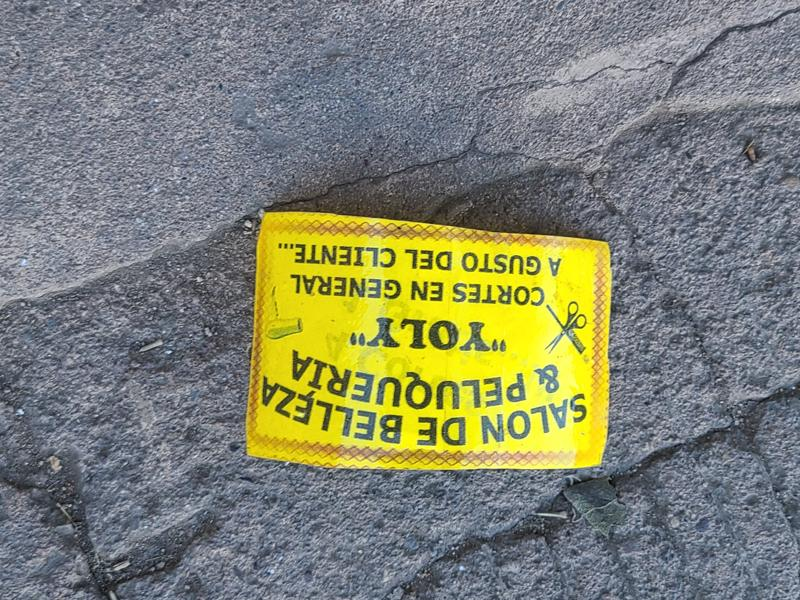papel: (242, 211, 613, 474)
